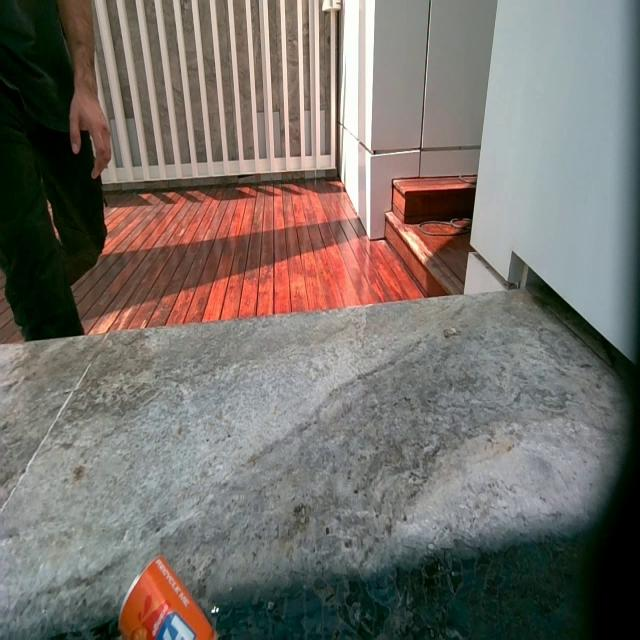Cans: (115, 559, 218, 640)
